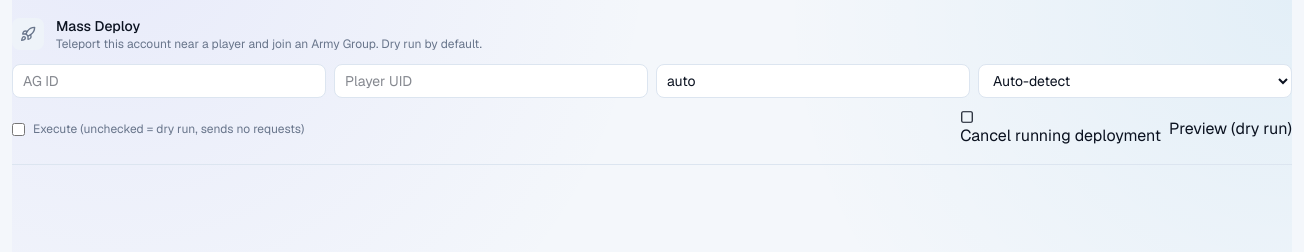
Test case: MassDeployControl › defaults to dry run and sends one request per click
Type "12345" into the field named "army group id" at x=169, y=81, box [12, 64, 326, 98]
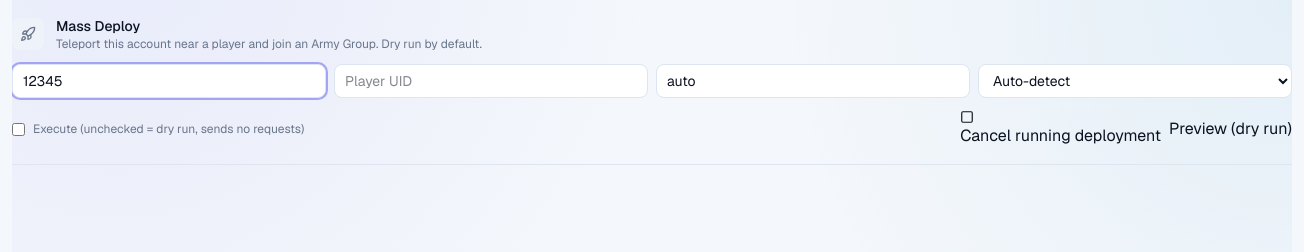
Type "67890" into the field named "target player uid" at x=491, y=81, box [334, 64, 648, 98]
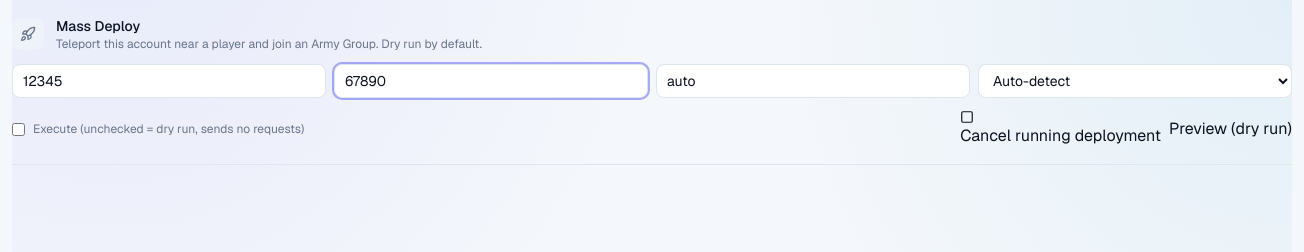
Click the button "Preview (dry run)" at x=1230, y=129, box [1169, 117, 1292, 141]
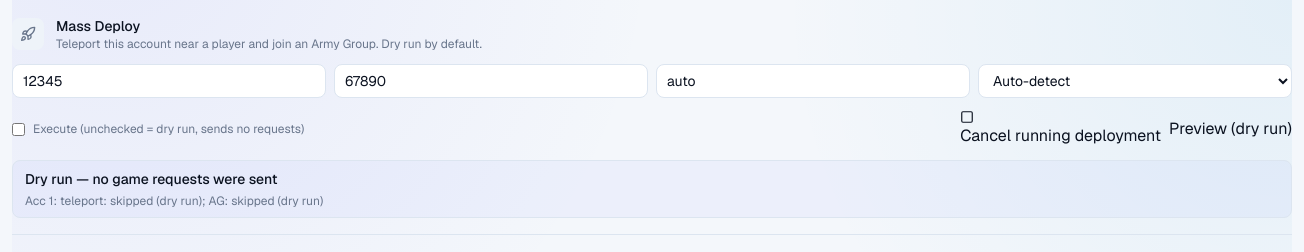
Check: the text "Dry run — no game requests were sent" is shown, box [25, 170, 278, 188]
